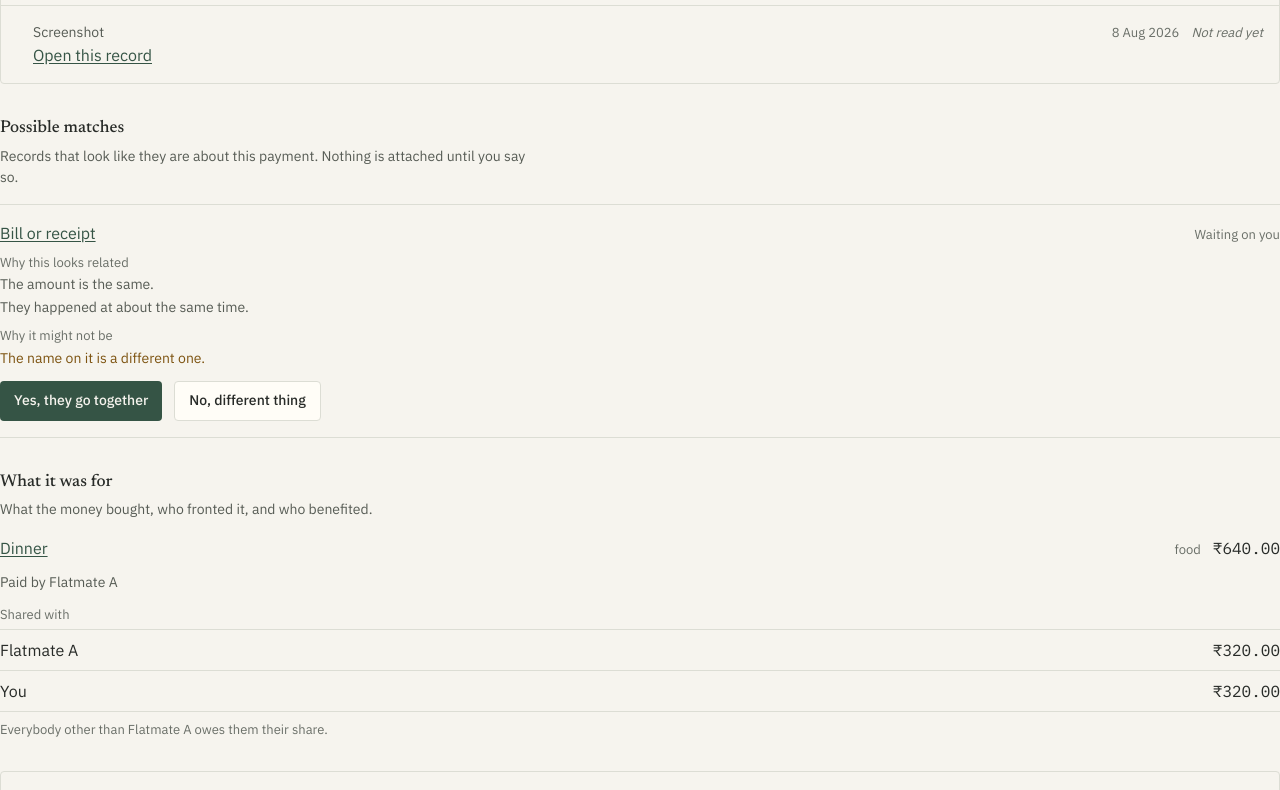
it: agreeing with a suggested match › says the connection is permanent before the confirm, and names the event
The width and height of the screenshot is (1280, 790).
(page scrolled)
Expected: the element "Possible matches" is shown, [0,116,1279,438]
Click the button "Yes, they go together".
click(81, 400)  # box [0,380,162,420]
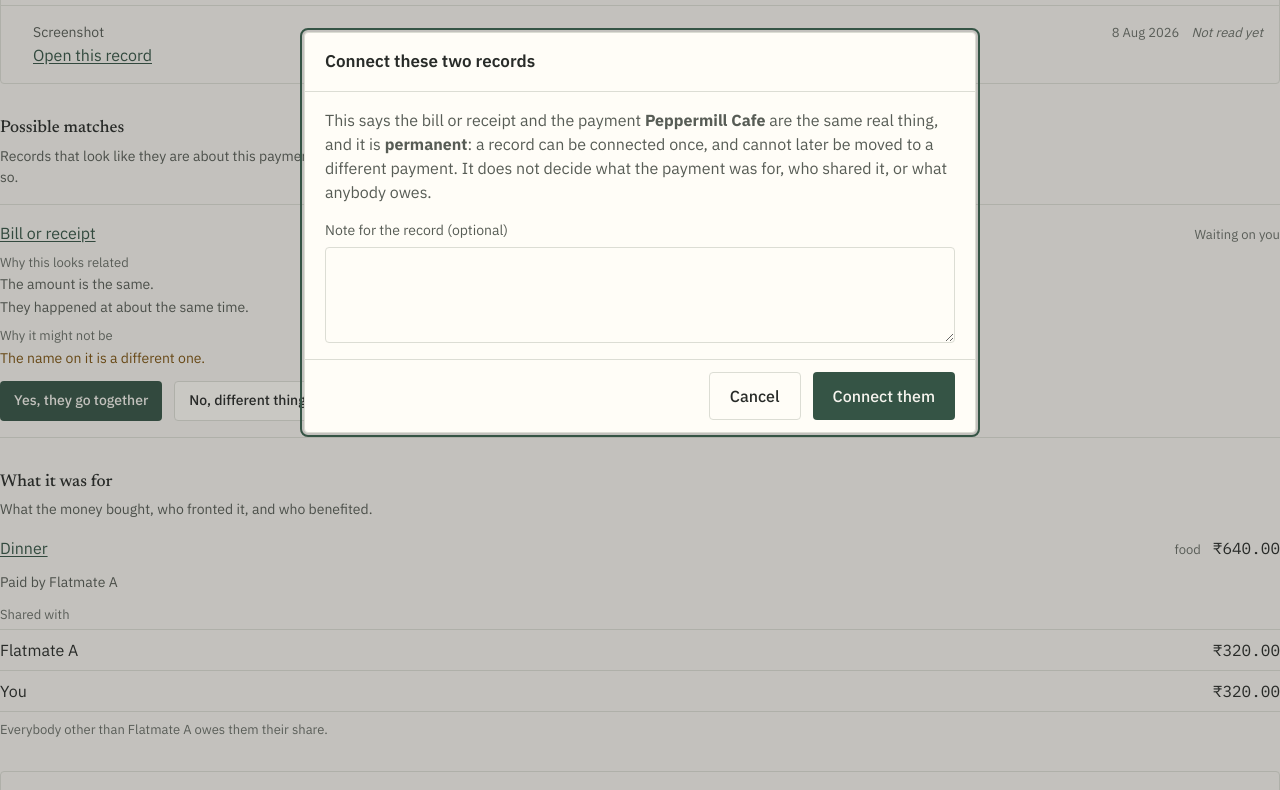
Result: the text "permanent" is shown at [385,134,468,154]
Result: the text "does not decide what the payment was for" is shown at [325,134,947,202]
